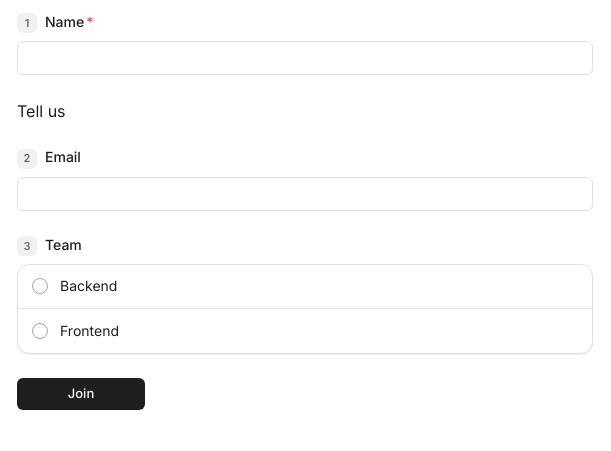
it: FormFill › marks unanswered required questions without sending
Click the button "Join" at (81, 394), box x1=17 y1=378 x2=145 y2=410
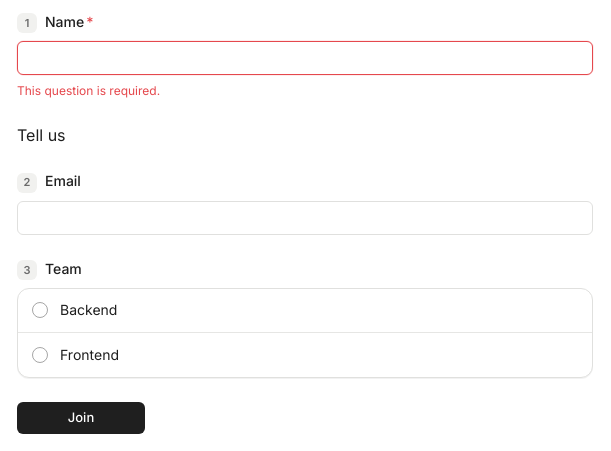
Expected: the message reads "This question is required.", x1=17 y1=83 x2=160 y2=98
Type "L" into the field labelled "Name*" at (305, 58), box x1=17 y1=41 x2=593 y2=75
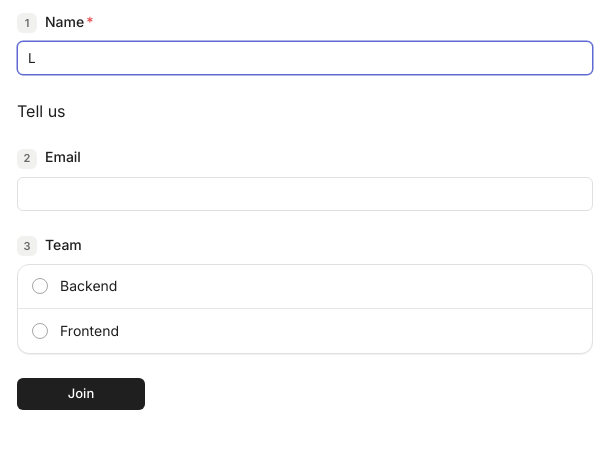
Expected: the message "This question is required." is gone
